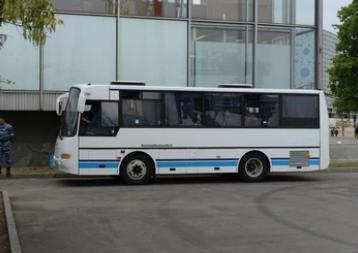vehicle: (54, 82, 330, 185)
